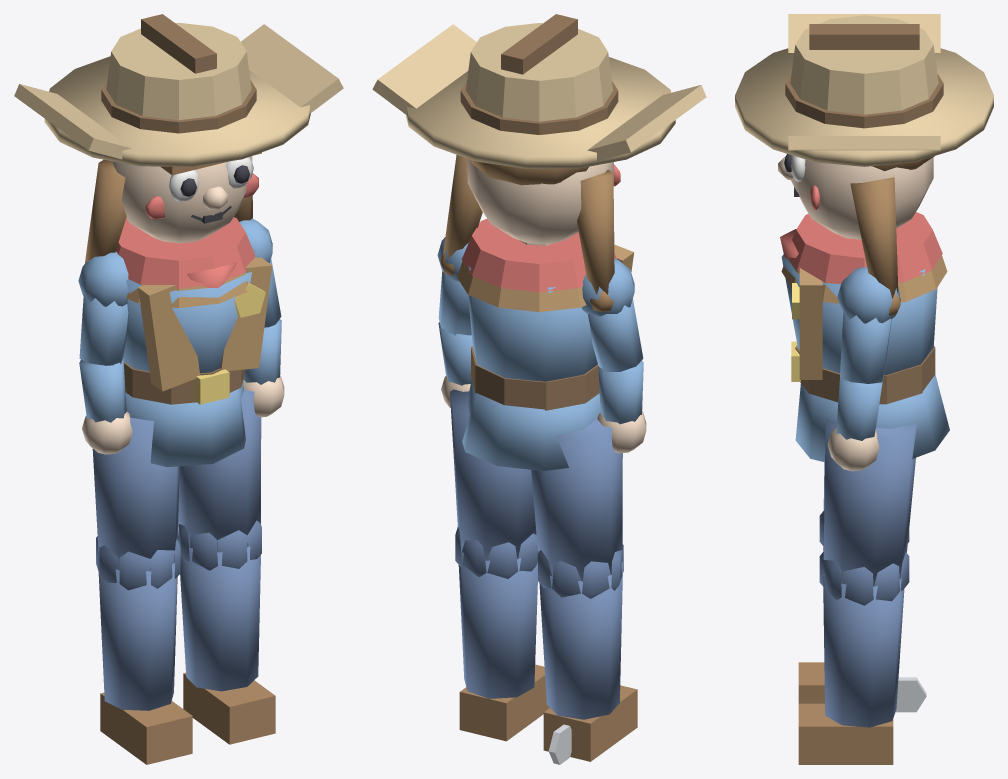
File: meeple_09_cowgirl_stand.glb
3 views of the same model, side by side, from view 1: azimuth 30°, elevation 25°; view 2: azimuth 150°, elevation 25°; view 3: azimuth 270°, elevation 25° (orthographic). The views are drawn at different scales.
Parts seen in each view (by area): view 1: meeple_09_cowgirl_stand; view 2: meeple_09_cowgirl_stand; view 3: meeple_09_cowgirl_stand.
Part boxes in pixels (<box>): meeple_09_cowgirl_stand: <box>14,14,343,764</box>; meeple_09_cowgirl_stand: <box>372,14,706,764</box>; meeple_09_cowgirl_stand: <box>735,14,993,764</box>.
Bounding box in the file's own units: 0.6525 × 1.68 × 0.5612.
